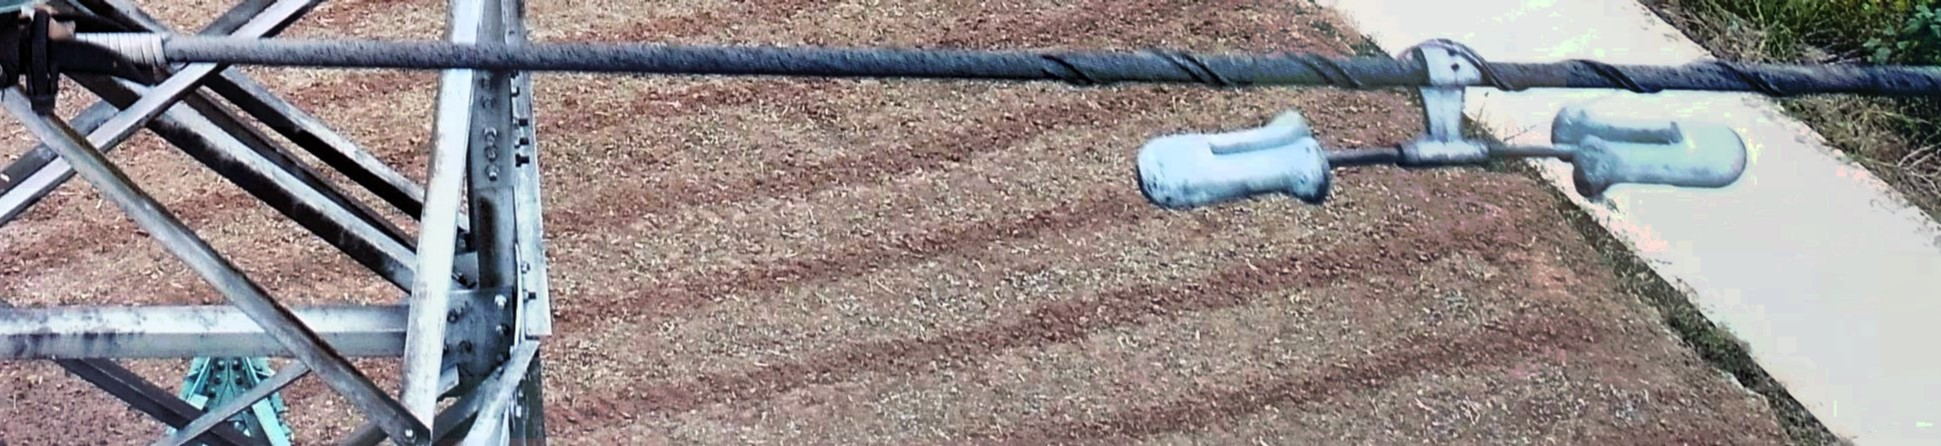Shockproof hammer: (1100, 30, 1770, 216)
